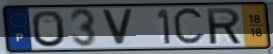1: (156, 8, 173, 47)
3: (68, 6, 99, 50)
C: (171, 5, 207, 48)
O: (30, 9, 68, 49)
R: (204, 7, 244, 47)
V: (99, 8, 135, 47)
